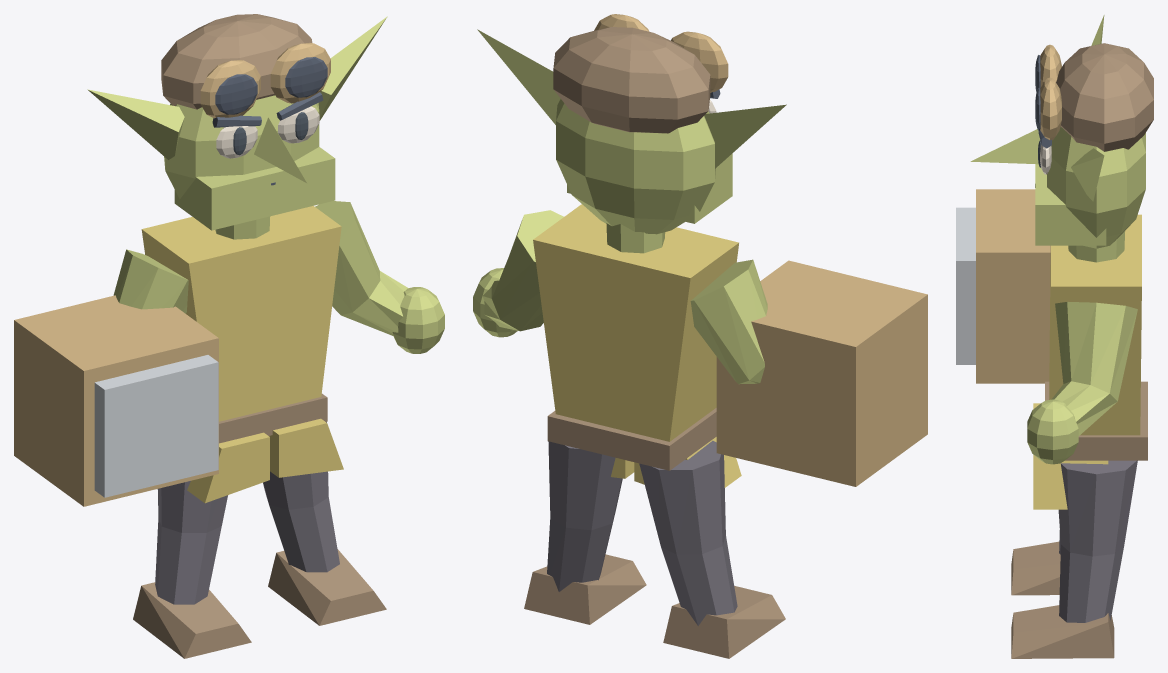
File: scrap-brawler.glb
The picture shows the model from 3 angles, left to right: view 1: azimuth 30°, elevation 25°; view 2: azimuth 150°, elevation 25°; view 3: azimuth 270°, elevation 25°; orthographic projection. The views are drawn at different scales.
Parts seen in each view (by area): view 1: torso, mechanical_fist, knuckles, leather_cap, jaw, leg_-1, arm_1, head, leg_1, foot_-1, foot_1, tunic_hem_1 (+14 smaller); view 2: mechanical_fist, torso, head, leather_cap, leg_-1, leg_1, arm_-1, belt, foot_-1, foot_1, arm_1, ear_-1 (+6 smaller); view 3: mechanical_fist, leg_1, torso, leather_cap, arm_1, head, foot_1, knuckles, jaw, hand_1, foot_-1, belt (+6 smaller).
Boxes of the visible parts, x1=… form: torso: x1=141, y1=206, x2=341, y2=421; mechanical_fist: x1=14, y1=295, x2=218, y2=506; knuckles: x1=94, y1=355, x2=218, y2=497; leather_cap: x1=161, y1=14, x2=312, y2=109; jaw: x1=174, y1=147, x2=335, y2=230; leg_-1: x1=155, y1=481, x2=227, y2=604; arm_1: x1=315, y1=201, x2=408, y2=335; head: x1=164, y1=95, x2=319, y2=199; leg_1: x1=263, y1=422, x2=339, y2=572; foot_-1: x1=133, y1=582, x2=251, y2=658; foot_1: x1=268, y1=549, x2=386, y2=625; tunic_hem_1: x1=269, y1=418, x2=343, y2=477; mechanical_fist: x1=716, y1=260, x2=927, y2=486; torso: x1=533, y1=204, x2=738, y2=441; head: x1=556, y1=99, x2=715, y2=234; leather_cap: x1=553, y1=27, x2=710, y2=133; leg_-1: x1=639, y1=440, x2=737, y2=625; leg_1: x1=547, y1=441, x2=622, y2=591; arm_-1: x1=690, y1=259, x2=767, y2=384; belt: x1=547, y1=408, x2=716, y2=470; foot_-1: x1=663, y1=586, x2=785, y2=658; foot_1: x1=524, y1=554, x2=646, y2=624; arm_1: x1=482, y1=210, x2=563, y2=331; ear_-1: x1=704, y1=104, x2=786, y2=168; mechanical_fist: x1=976, y1=189, x2=1050, y2=383; leg_1: x1=1058, y1=460, x2=1137, y2=622; torso: x1=1049, y1=214, x2=1141, y2=435; leather_cap: x1=1056, y1=43, x2=1153, y2=151; arm_1: x1=1051, y1=301, x2=1137, y2=435; head: x1=1047, y1=126, x2=1145, y2=248; foot_1: x1=1011, y1=605, x2=1114, y2=658; knuckles: x1=956, y1=207, x2=975, y2=364; jaw: x1=1035, y1=164, x2=1106, y2=245; hand_1: x1=1027, y1=399, x2=1078, y2=464; foot_-1: x1=1011, y1=541, x2=1060, y2=595; belt: x1=1045, y1=381, x2=1147, y2=460.
Size of the model in its own units: 0.7559 by 1.05 by 0.3381.
